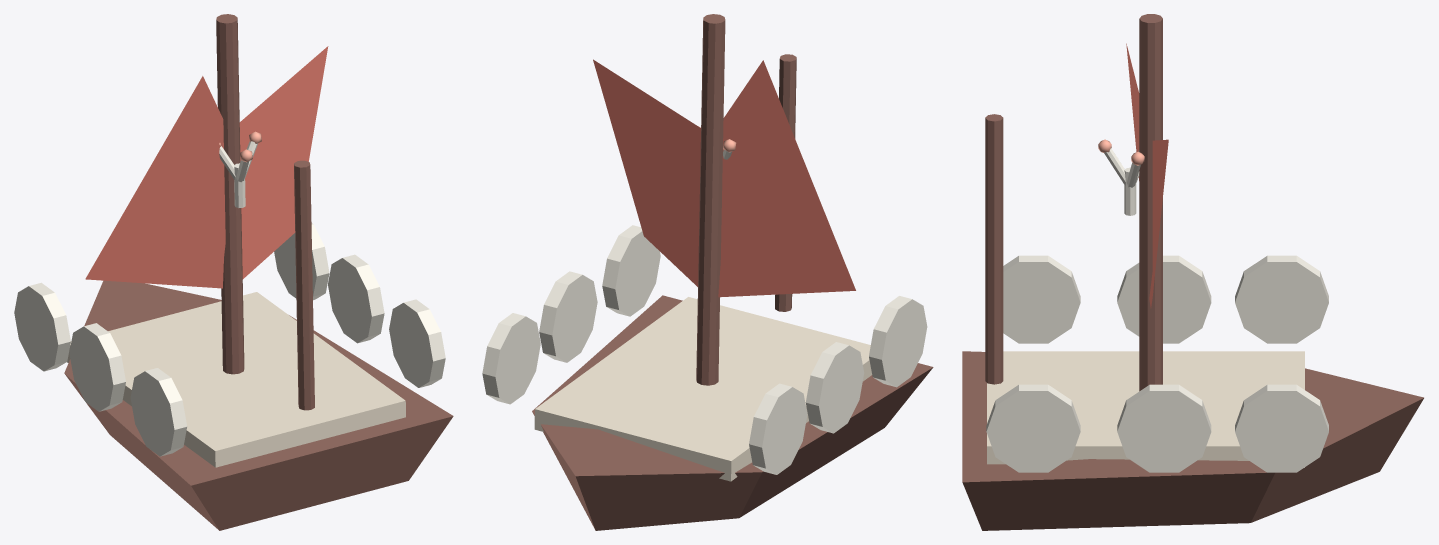
File: escort-coral.glb
3 renders of one model, left to right at view 1: azimuth 30°, elevation 25°; view 2: azimuth 150°, elevation 25°; view 3: azimuth 270°, elevation 25°, orthographic. The views are drawn at different scales.
Visible parts, largest first — view 1: Distinctive sail, Pearl deck, Carved hull, Mast, Second mast, Escort shield.004, Escort shield, Escort shield.002, Escort shield.001, Escort shield.003, Escort shield.005; view 2: Distinctive sail, Pearl deck, Carved hull, Mast, Escort shield.004, Escort shield.001, Escort shield.005, Escort shield, Escort shield.002, Escort shield.003, Second mast; view 3: Carved hull, Pearl deck, Mast, Escort shield.003, Escort shield.004, Escort shield.002, Escort shield.005, Escort shield, Second mast, Escort shield.001, Distinctive sail.
Boxes of the visible parts, x1=… form: Distinctive sail: x1=85, y1=46, x2=328, y2=288; Pearl deck: x1=67, y1=292, x2=405, y2=467; Carved hull: x1=64, y1=280, x2=453, y2=530; Mast: x1=216, y1=14, x2=244, y2=374; Second mast: x1=294, y1=160, x2=314, y2=410; Escort shield.004: x1=328, y1=254, x2=384, y2=343; Escort shield: x1=130, y1=368, x2=187, y2=456; Escort shield.002: x1=14, y1=282, x2=70, y2=371; Escort shield.001: x1=69, y1=323, x2=125, y2=411; Escort shield.003: x1=389, y1=299, x2=445, y2=387; Escort shield.005: x1=274, y1=223, x2=329, y2=300; Distinctive sail: x1=593, y1=59, x2=855, y2=297; Pearl deck: x1=534, y1=297, x2=872, y2=481; Carved hull: x1=532, y1=295, x2=933, y2=530; Mast: x1=696, y1=14, x2=725, y2=385; Escort shield.004: x1=539, y1=271, x2=597, y2=362; Escort shield.001: x1=805, y1=342, x2=864, y2=433; Escort shield.005: x1=482, y1=313, x2=540, y2=404; Escort shield: x1=869, y1=296, x2=927, y2=387; Escort shield.002: x1=749, y1=383, x2=807, y2=474; Escort shield.003: x1=602, y1=225, x2=660, y2=316; Second mast: x1=775, y1=54, x2=796, y2=311; Carved hull: x1=962, y1=351, x2=1423, y2=530; Pearl deck: x1=987, y1=351, x2=1304, y2=467; Mast: x1=1139, y1=14, x2=1162, y2=391; Escort shield.003: x1=986, y1=384, x2=1080, y2=472; Escort shield.004: x1=1117, y1=384, x2=1211, y2=472; Escort shield.002: x1=1235, y1=255, x2=1328, y2=343; Escort shield.005: x1=1235, y1=384, x2=1328, y2=472; Escort shield: x1=1003, y1=255, x2=1080, y2=343; Second mast: x1=985, y1=114, x2=1003, y2=384; Escort shield.001: x1=1117, y1=255, x2=1211, y2=343; Distinctive sail: x1=1126, y1=43, x2=1168, y2=308.
Bounding box in the file's own units: 1.33 × 1.95 × 1.77.
